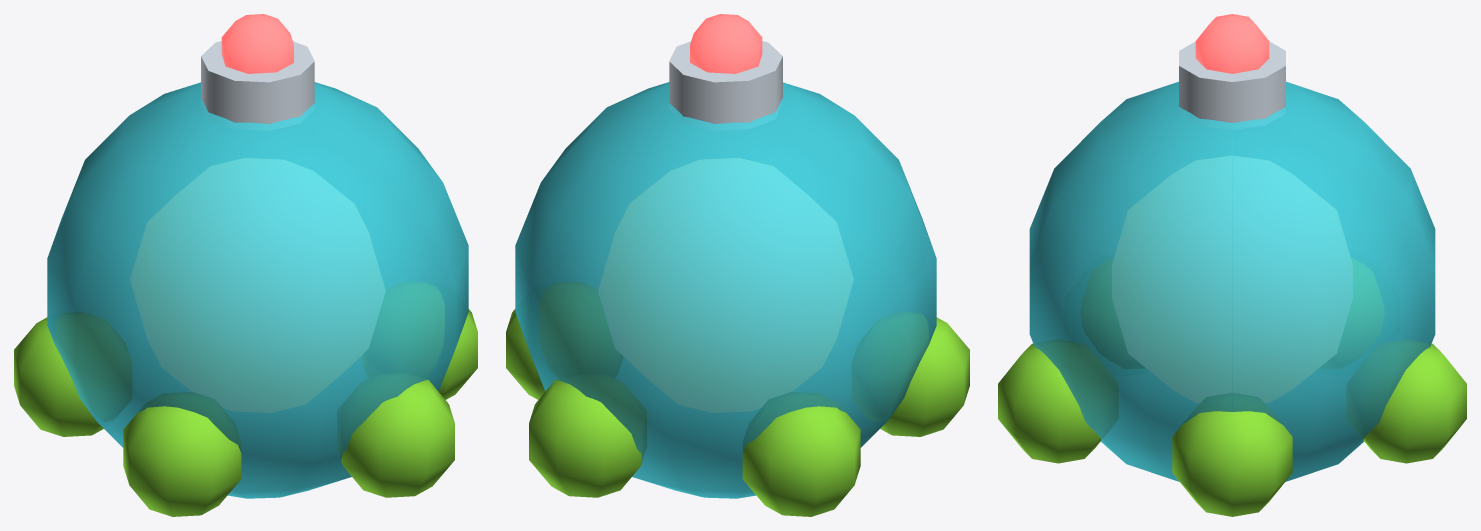
Rendered from StickyBomb.fbx.
3 renders of one model, left to right at view 1: azimuth 30°, elevation 25°; view 2: azimuth 150°, elevation 25°; view 3: azimuth 270°, elevation 25°, orthographic.
Parts seen in each view (by area): view 1: StickyBomb; view 2: StickyBomb; view 3: StickyBomb.
Part boxes in pixels (x1=…): StickyBomb: x1=14, y1=14, x2=477, y2=516; StickyBomb: x1=506, y1=14, x2=969, y2=516; StickyBomb: x1=998, y1=14, x2=1466, y2=516.
Size of the model in its own units: 0.1283 by 0.143 by 0.1331.
